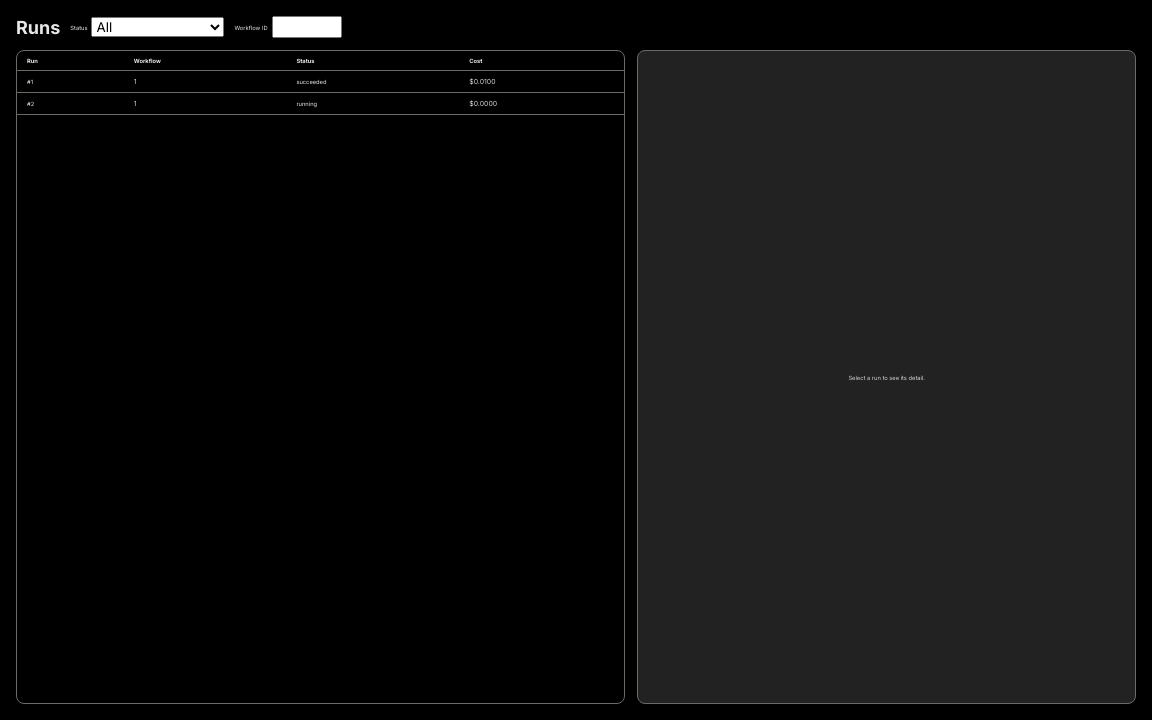
Test: AgentRuns › changing the status filter re-fetches runs with the selected ratified status
The width and height of the screenshot is (1152, 720).
Expected: the row with test id "run-row-1" is shown, [17, 70, 624, 92]
Expected: the row with test id "run-row-2" is shown, [17, 92, 624, 114]
Select "Running" in the dropdown named "Filter by status" at x=158, y=27, box [92, 17, 224, 37]
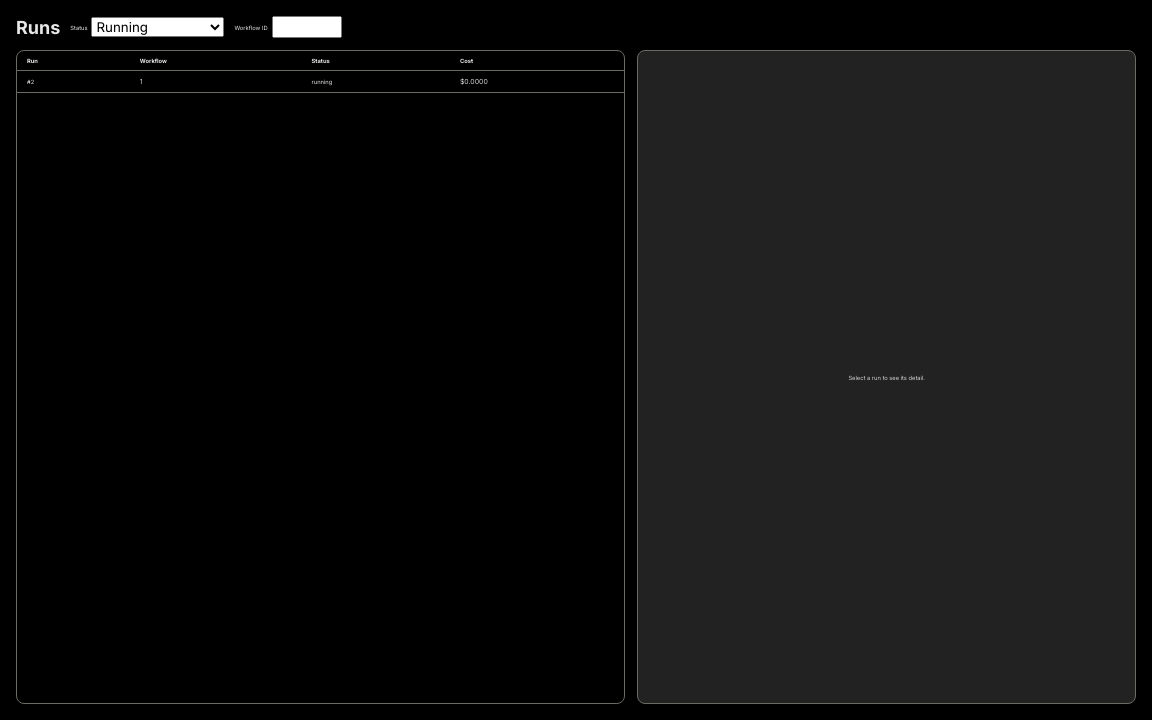
Expected: the row with test id "run-row-2" is shown, [17, 70, 624, 92]
Now the row with test id "run-row-1" is gone
